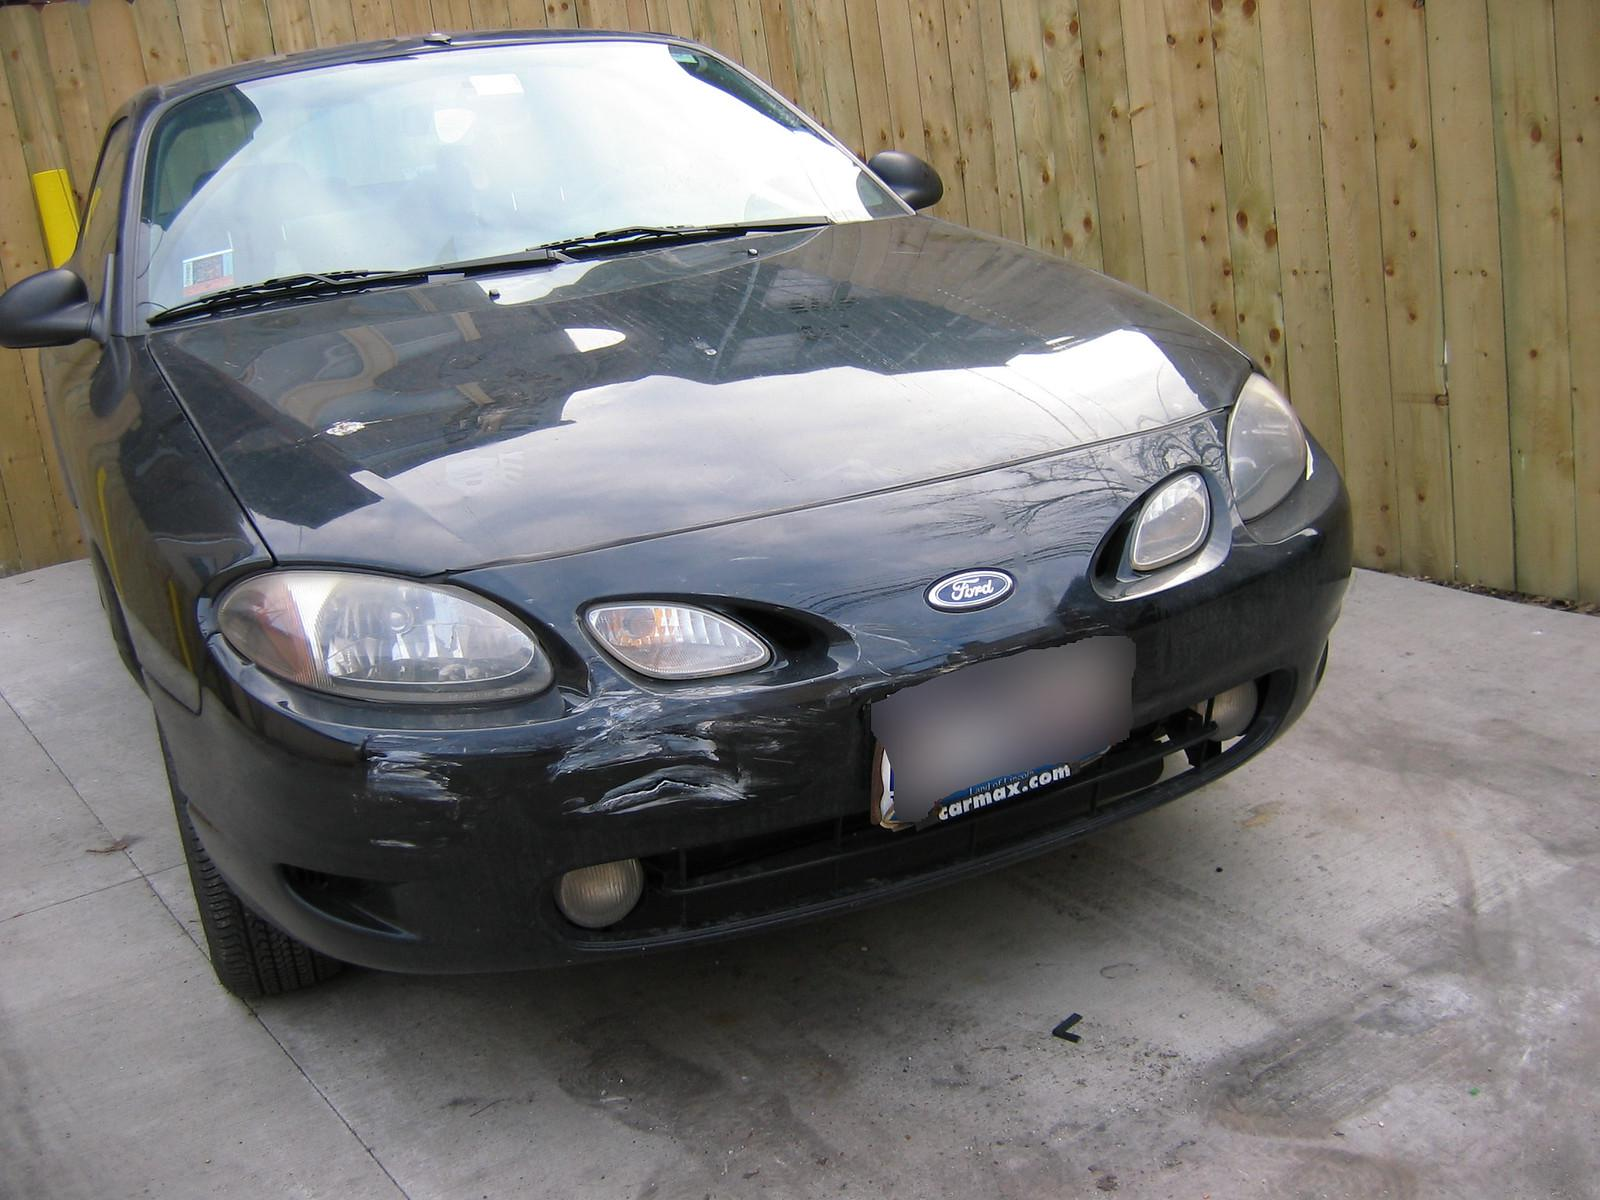front-bumper-dent: (301, 607, 853, 933)
